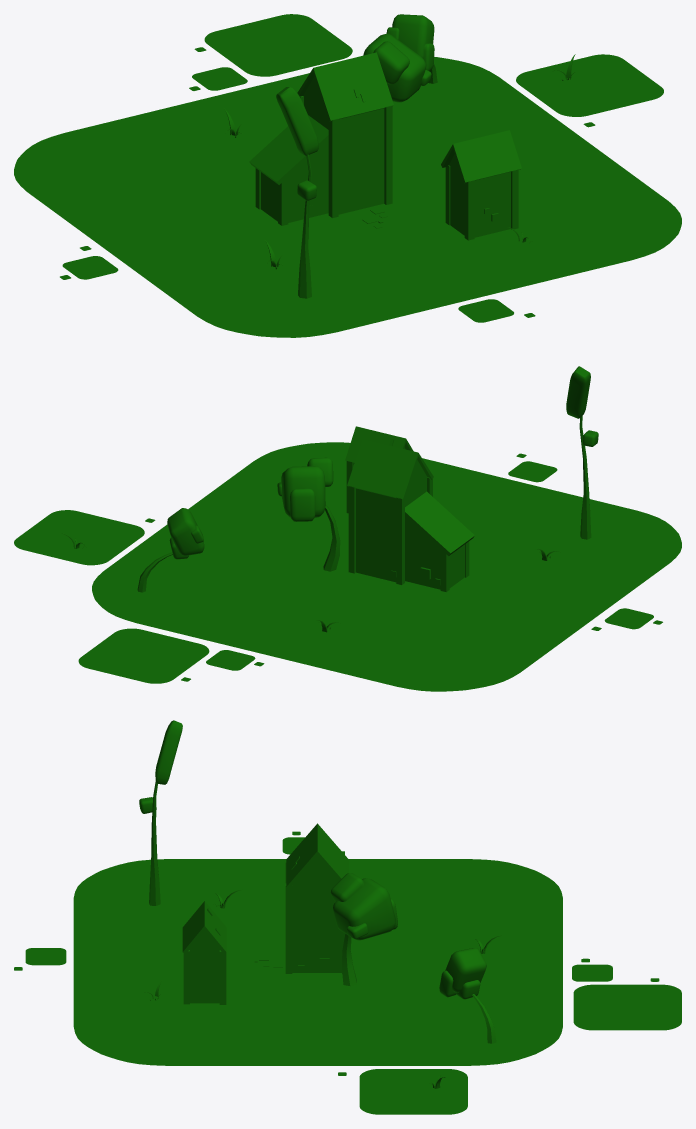
File: Level_001.FBX
3 renders of one model, top to bottom at view 1: azimuth 30°, elevation 25°; view 2: azimuth 150°, elevation 25°; view 3: azimuth 270°, elevation 25°, orthographic. The views are drawn at different scales.
Parts seen in each view (by area): view 1: Level_001; view 2: Level_001; view 3: Level_001.
Part boxes in pixels (x1=…): Level_001: x1=14, y1=14, x2=681, y2=337; Level_001: x1=14, y1=366, x2=681, y2=691; Level_001: x1=14, y1=720, x2=681, y2=1114.
Size of the model in its own units: 35.5 by 35.39 by 11.1.
